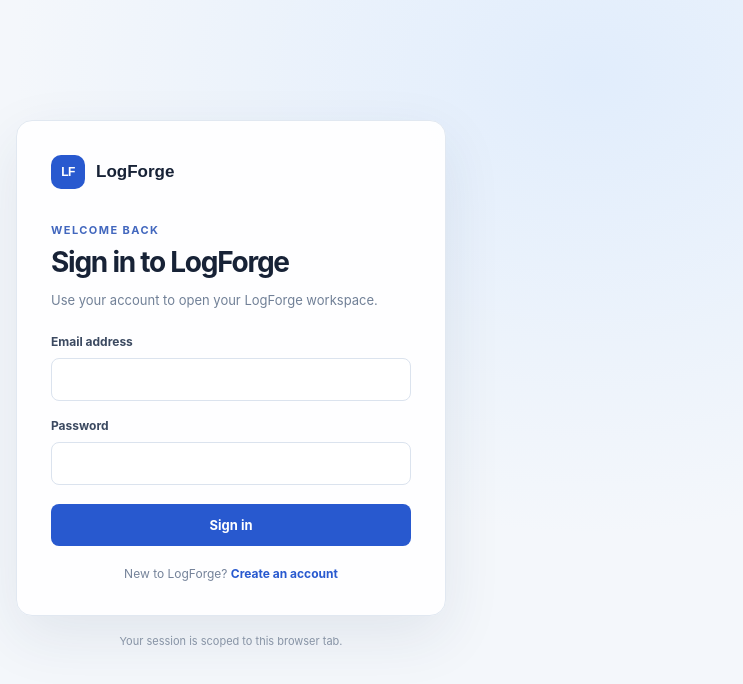
Test: browser authentication › shows invalid credentials without storing a token
The width and height of the screenshot is (743, 684).
In the field labelled "Email address": {"x": 231, "y": 379} [51, 358, 411, 401], type "ada@example.test"
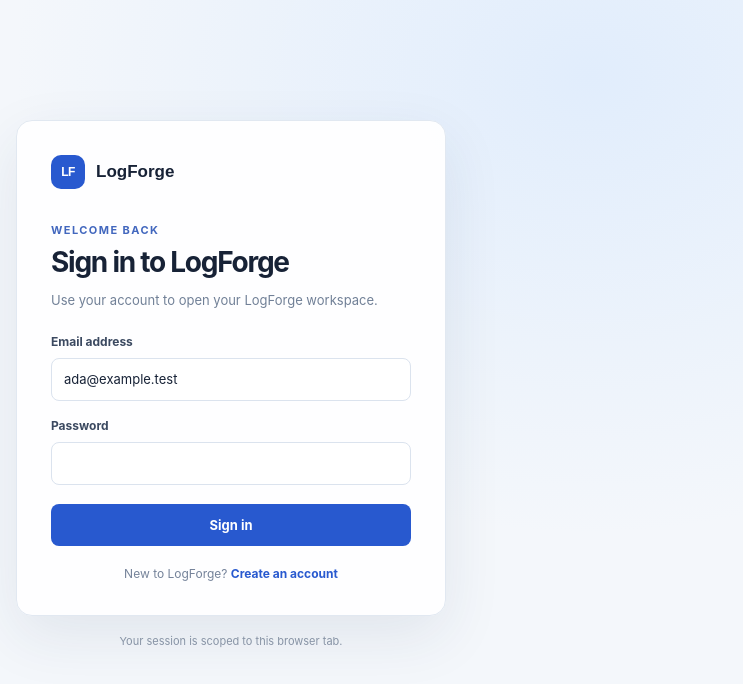
In the password field labelled "Password": {"x": 231, "y": 463} [51, 442, 411, 485], type "wrong-password"
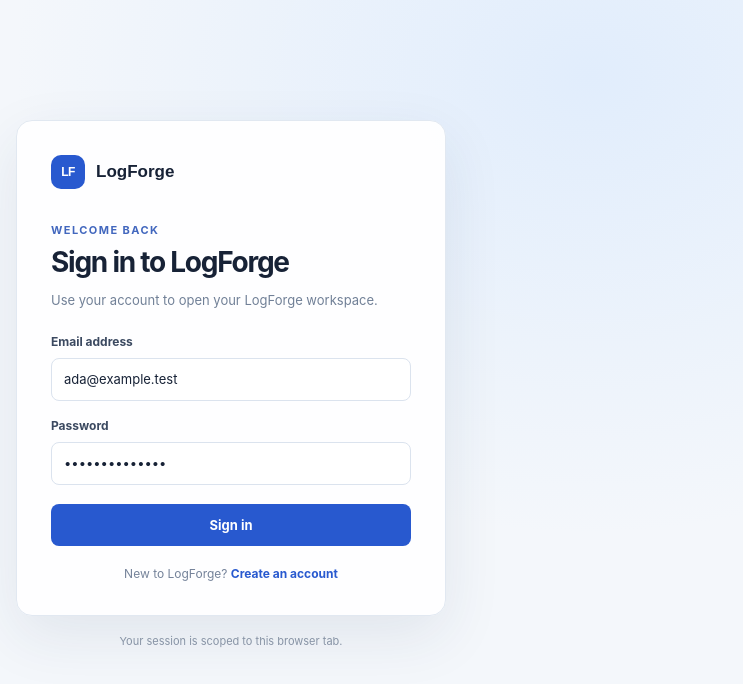
Click the button "Sign in": {"x": 231, "y": 525} [51, 504, 411, 546]
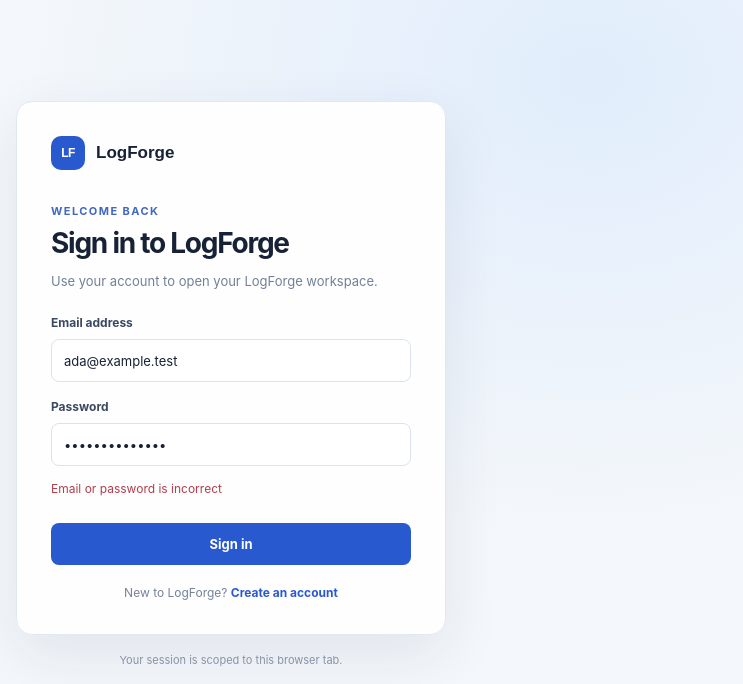
expect the message reads "Email or password is incorrect": met, box [51, 481, 222, 496]
